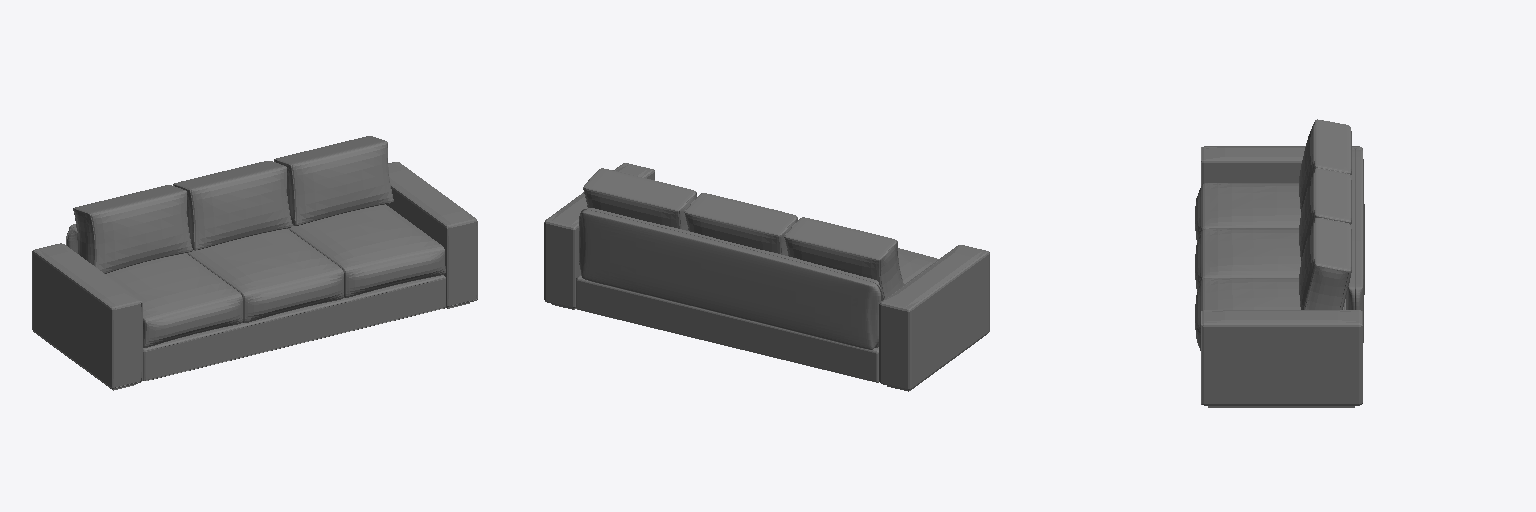
Rendered from sofa.obj.
3 views of the same model, side by side, from view 1: azimuth 30°, elevation 25°; view 2: azimuth 150°, elevation 25°; view 3: azimuth 270°, elevation 25° (orthographic).
Visible parts, largest first — view 1: Box023_Malha.009, Box018_Malha.006, Box005_Malha.001, Box020_Malha.007, Box022_Malha.008, Box004_Malha, Box026_Malha.012, Box025_Malha.011, Box017_Malha.005; view 2: Box008_Malha.002, Box023_Malha.009, Box018_Malha.006, Box022_Malha.008, Box026_Malha.012, Box025_Malha.011, Box017_Malha.005, Box004_Malha; view 3: Box017_Malha.005, Box005_Malha.001, Box004_Malha, Box026_Malha.012, Box023_Malha.009, Box020_Malha.007, Box025_Malha.011, Box022_Malha.008, Box008_Malha.002.
Part boxes in pixels (x1,y1,x2,y2): Box023_Malha.009: (32, 243, 142, 388); Box018_Malha.006: (143, 275, 445, 380); Box005_Malha.001: (187, 229, 343, 322); Box020_Malha.007: (287, 204, 445, 297); Box022_Malha.008: (73, 185, 192, 273); Box004_Malha: (106, 253, 242, 347); Box026_Malha.012: (274, 136, 393, 225); Box025_Malha.011: (173, 161, 292, 250); Box017_Malha.005: (386, 162, 477, 306); Box008_Malha.002: (579, 208, 882, 349); Box023_Malha.009: (879, 245, 989, 390); Box018_Malha.006: (576, 275, 878, 382); Box022_Malha.008: (784, 217, 903, 299); Box026_Malha.012: (583, 168, 696, 230); Box025_Malha.011: (684, 193, 797, 255); Box017_Malha.005: (544, 163, 654, 308); Box004_Malha: (898, 248, 938, 283); Box017_Malha.005: (1201, 310, 1362, 405); Box005_Malha.001: (1195, 228, 1300, 291); Box004_Malha: (1195, 183, 1300, 242); Box026_Malha.012: (1299, 218, 1351, 309); Box023_Malha.009: (1201, 146, 1362, 185); Box020_Malha.007: (1195, 278, 1344, 350); Box025_Malha.011: (1299, 168, 1351, 261); Box022_Malha.008: (1299, 119, 1351, 211); Box008_Malha.002: (1346, 149, 1364, 342).
Bounding box in the file's own units: 2.2 × 0.7426 × 0.878.